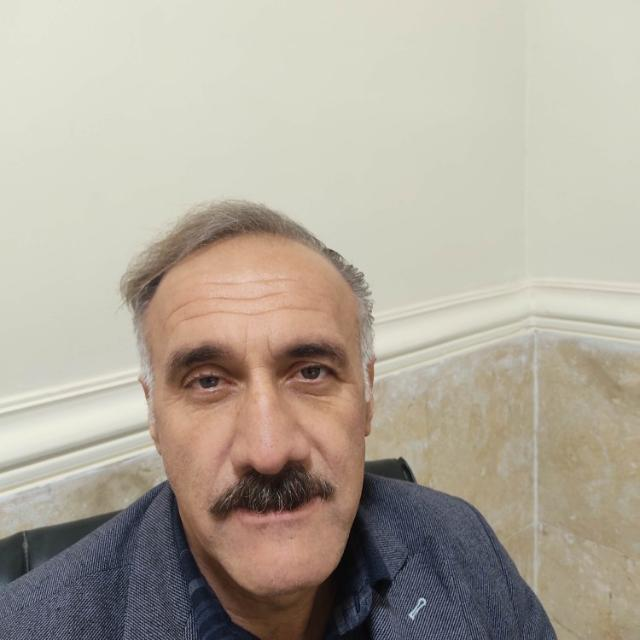crows_feet: (338, 368, 360, 392)
forehead: (218, 273, 276, 305), (164, 290, 212, 326), (222, 298, 274, 326), (284, 292, 328, 318)
frown_line: (234, 335, 252, 361), (261, 338, 279, 360)
gummy_smile: (306, 438, 336, 467)
